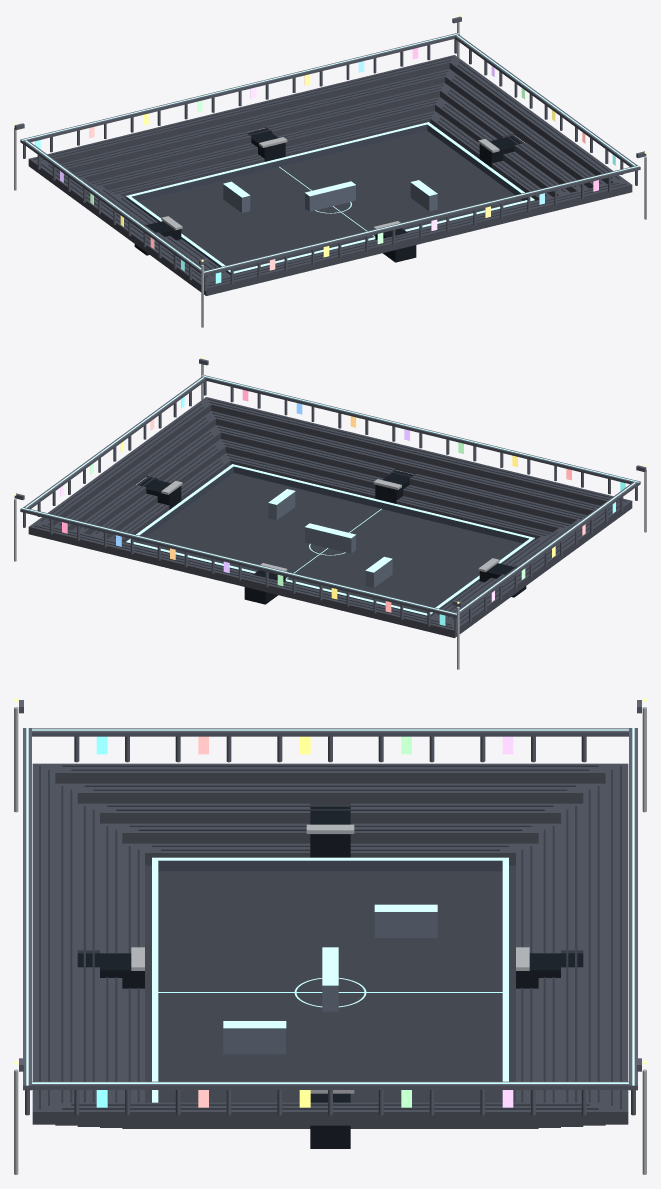
File: arena_classic.glb
The picture shows the model from 3 angles, top to bottom: view 1: azimuth 30°, elevation 25°; view 2: azimuth 150°, elevation 25°; view 3: azimuth 270°, elevation 25°; orthographic projection. The views are drawn at different scales.
Visible parts, largest first — view 1: Stands, Floor, Seats, Lintel, Kerbs, Colonnade, Gates, KerbGlow, Walls, Banners, Floodlights, WallTrim; view 2: Stands, Floor, Seats, Lintel, Kerbs, Colonnade, Gates, KerbGlow, Walls, Banners, Floodlights, WallTrim; view 3: Stands, Floor, Seats, Lintel, Gates, KerbGlow, Kerbs, Walls, Colonnade, Floodlights, Banners, WallTrim.
Part boxes in pixels (<box>): Stands: <box>28,55,632,295</box>; Floor: <box>138,131,522,271</box>; Seats: <box>34,56,626,286</box>; Lintel: <box>20,33,640,276</box>; Kerbs: <box>126,124,534,274</box>; Colonnade: <box>23,39,637,290</box>; Gates: <box>134,129,523,262</box>; KerbGlow: <box>126,122,534,273</box>; Walls: <box>223,183,437,212</box>; Banners: <box>35,48,615,283</box>; Floodlights: <box>14,16,646,327</box>; WallTrim: <box>223,180,437,197</box>; Stands: <box>28,397,632,637</box>; Floor: <box>138,473,522,613</box>; Seats: <box>34,398,626,628</box>; Lintel: <box>20,375,640,618</box>; Kerbs: <box>126,466,534,616</box>; Colonnade: <box>23,381,637,632</box>; Gates: <box>137,471,526,604</box>; KerbGlow: <box>126,464,534,615</box>; Walls: <box>268,492,392,587</box>; Banners: <box>60,390,625,625</box>; Floodlights: <box>14,358,646,669</box>; WallTrim: <box>268,489,392,572</box>; Stands: <box>32,763,628,1128</box>; Floor: <box>145,865,515,1102</box>; Seats: <box>39,765,621,1109</box>; Lintel: <box>23,727,637,1090</box>; Gates: <box>77,807,583,1148</box>; KerbGlow: <box>152,857,508,1102</box>; Kerbs: <box>158,860,502,871</box>; Walls: <box>223,912,437,1054</box>; Colonnade: <box>25,736,635,1115</box>; Floodlights: <box>14,700,646,1174</box>; Banners: <box>96,736,513,1107</box>; WallTrim: <box>223,904,437,1028</box>.
Bounding box in the file's own units: 193 × 28.35 × 141.
